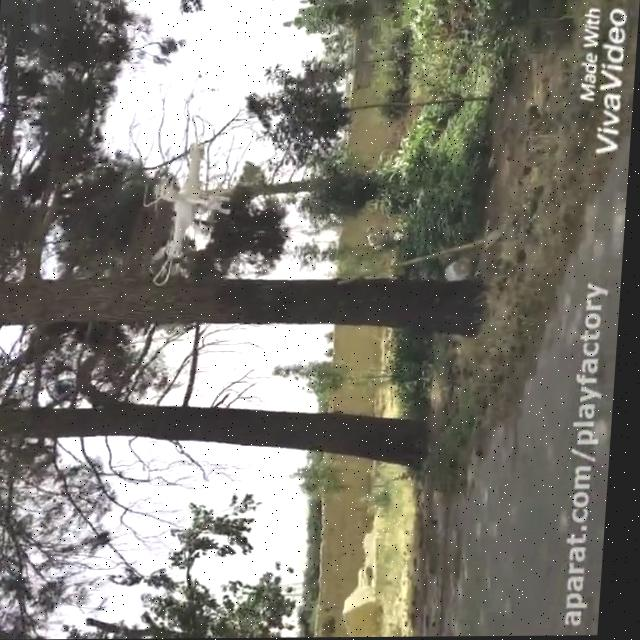drone: (140, 139, 238, 287)
